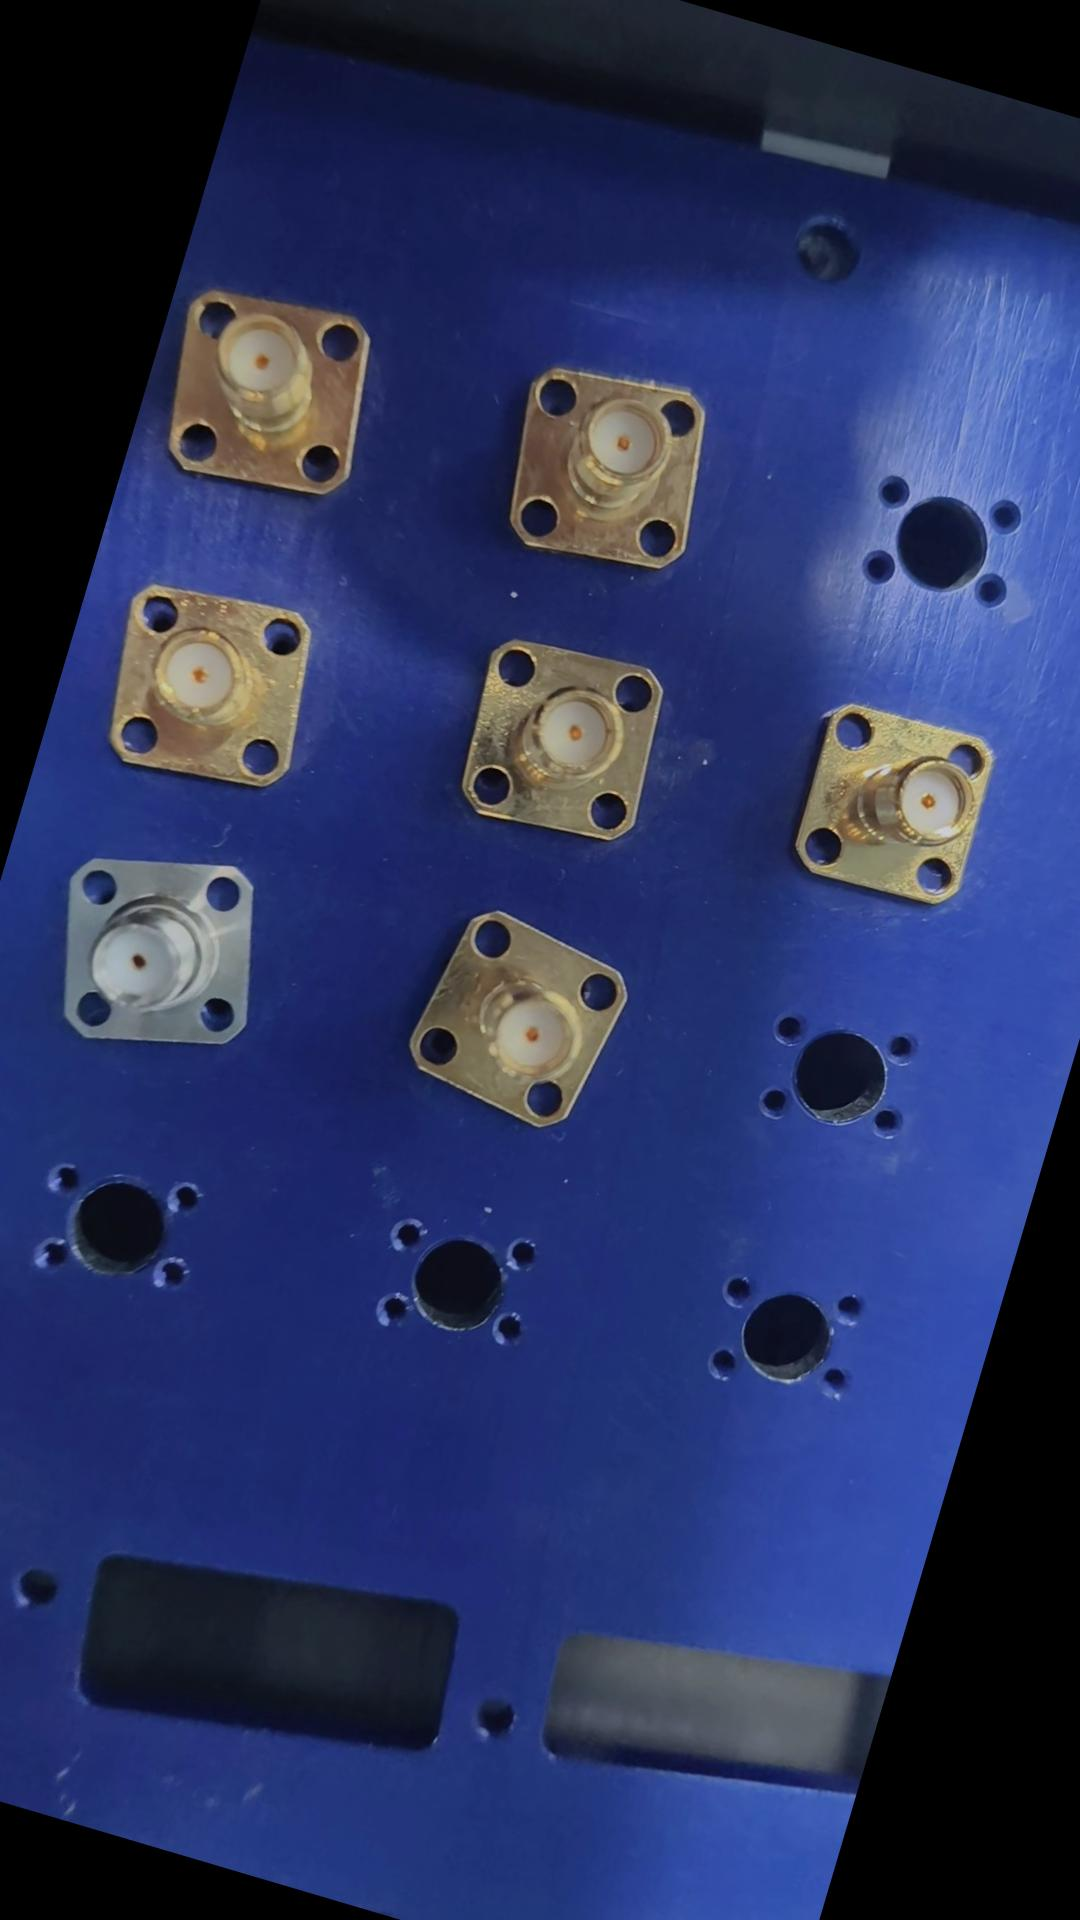SMA: (765, 793, 1052, 1077), (715, 542, 977, 810), (425, 887, 690, 1150), (368, 618, 633, 880), (641, 264, 909, 518), (305, 345, 571, 600), (50, 704, 295, 948)
